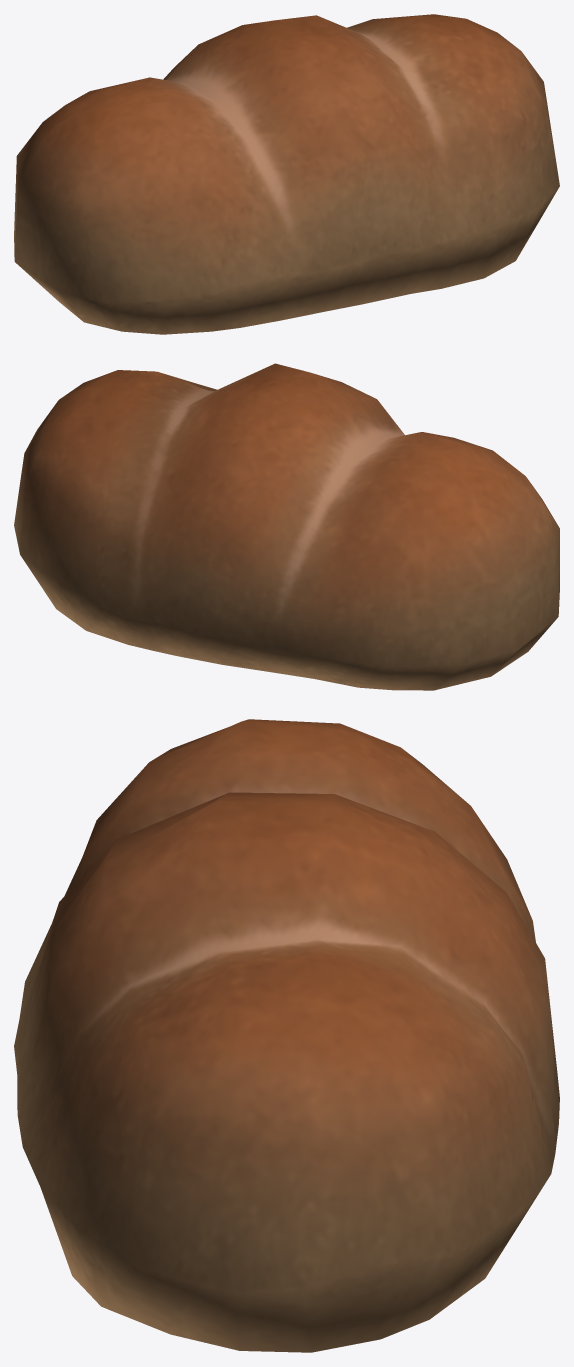
The model's file is roti 3.fbx.
3 renders of one model, top to bottom at view 1: azimuth 30°, elevation 25°; view 2: azimuth 150°, elevation 25°; view 3: azimuth 270°, elevation 25°, orthographic. The views are drawn at different scales.
Parts seen in each view (by area): view 1: roti 3; view 2: roti 3; view 3: roti 3.
Boxes of the visible parts, box(x1,y1,x2,y2) form: roti 3: box(14, 14, 559, 334); roti 3: box(14, 363, 559, 690); roti 3: box(14, 719, 559, 1352).
Bounding box in the file's own units: 27.44 × 12.81 × 16.15.
1 material, 1 textured.
